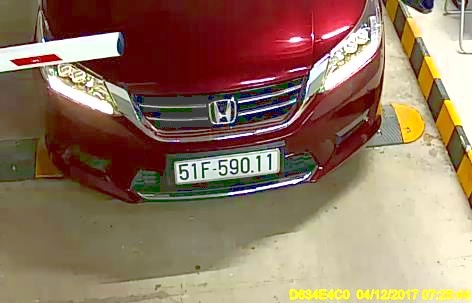plate: (170, 148, 282, 179)
